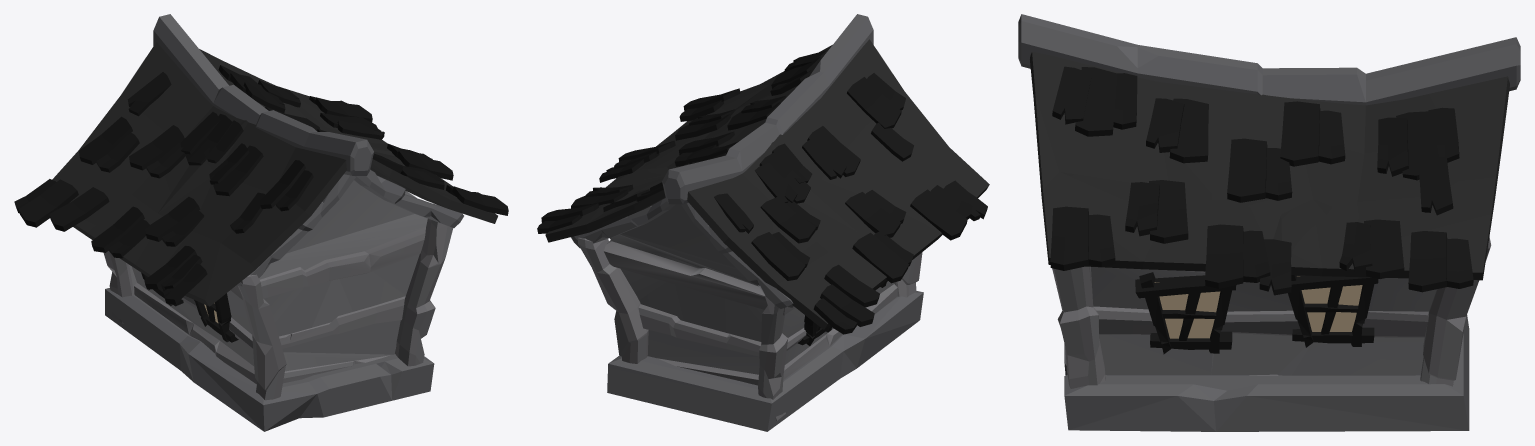
File: WF_LP_HT_Build_HouseRoom.002.1.fbx
The picture shows the model from 3 angles, left to right: view 1: azimuth 30°, elevation 25°; view 2: azimuth 150°, elevation 25°; view 3: azimuth 270°, elevation 25°; orthographic projection. The views are drawn at different scales.
Visible parts, largest first — view 1: WF_LP_HT_Build_HouseRoom.002.1; view 2: WF_LP_HT_Build_HouseRoom.002.1; view 3: WF_LP_HT_Build_HouseRoom.002.1.
Boxes of the visible parts, <box> form: WF_LP_HT_Build_HouseRoom.002.1: <box>14,14,508,431</box>; WF_LP_HT_Build_HouseRoom.002.1: <box>537,14,989,431</box>; WF_LP_HT_Build_HouseRoom.002.1: <box>1018,14,1520,431</box>.
Size of the model in its own units: 5.57 by 4.4 by 5.58.
